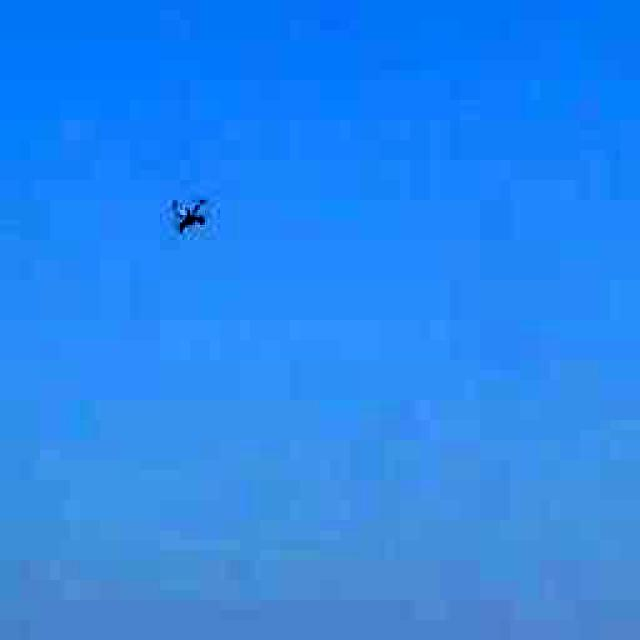bird: (156, 172, 216, 250)
